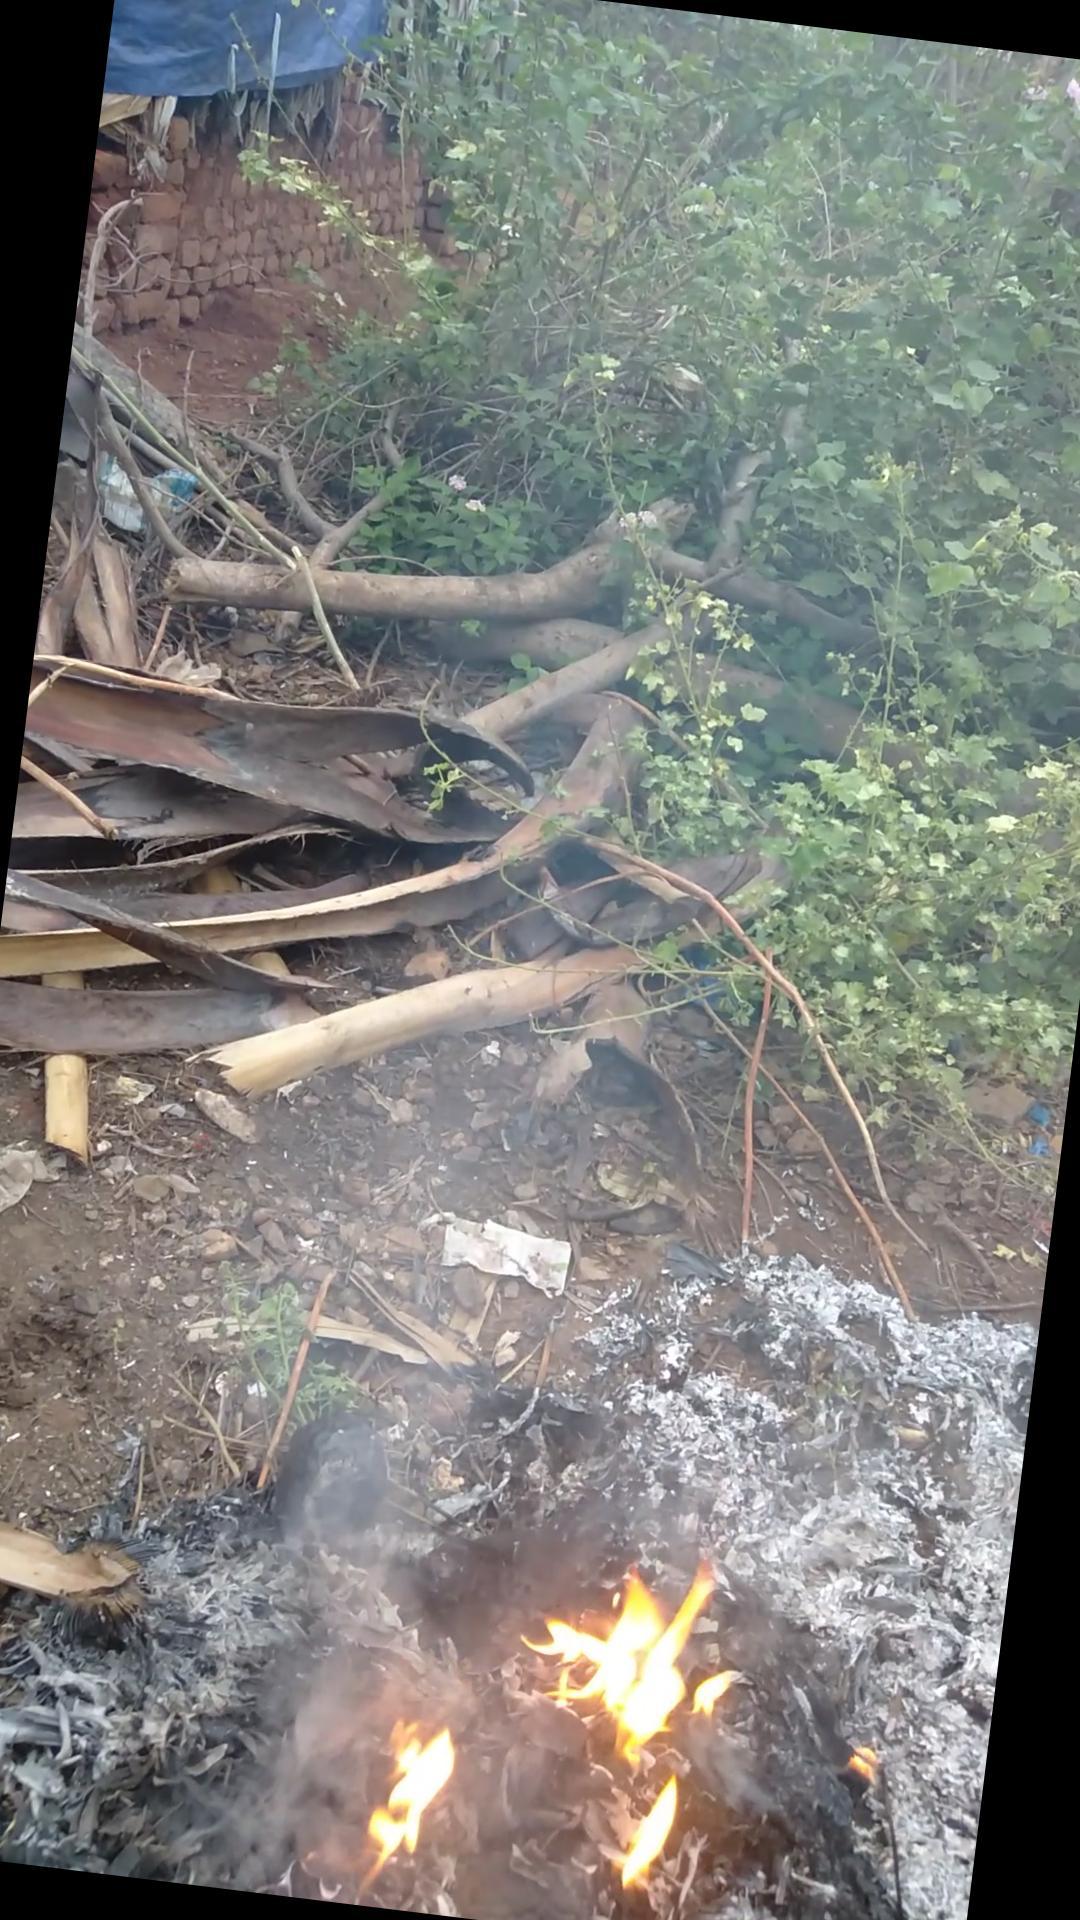Fire: (494, 1538, 751, 1900), (356, 1712, 465, 1888)
